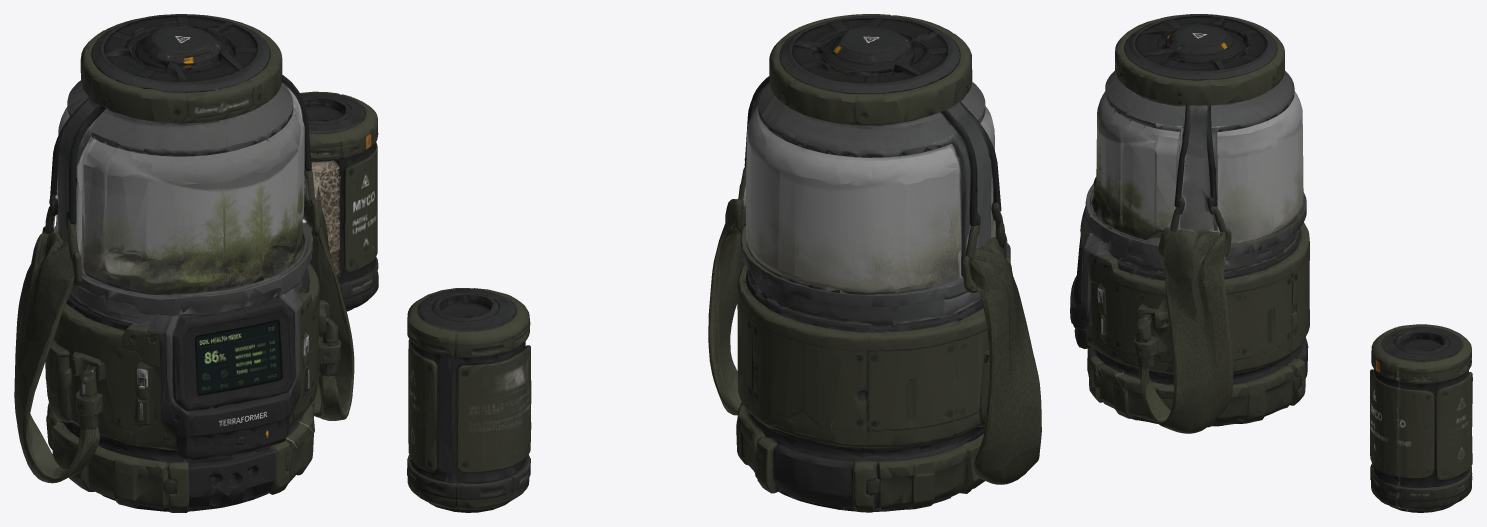
The model's file is terraformer_t800.glb.
The picture shows the model from 3 angles, left to right: view 1: azimuth 30°, elevation 25°; view 2: azimuth 150°, elevation 25°; view 3: azimuth 270°, elevation 25°; orthographic projection. The views are drawn at different scales.
Parts seen in each view (by area): view 1: mesh_node; view 2: mesh_node; view 3: mesh_node.
Part boxes in pixels (bbox=[...]): mesh_node: bbox=[14, 14, 378, 512]; mesh_node: bbox=[407, 14, 1041, 512]; mesh_node: bbox=[1070, 14, 1472, 512].
Bounding box in the file's own units: 1.9 × 1.58 × 1.63.
Materials: 1 (1 with a texture image).
